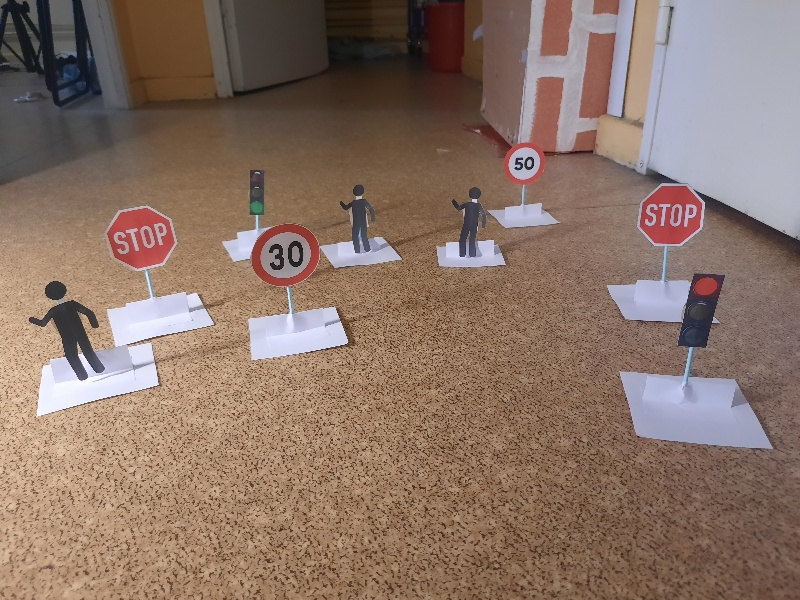Green: (249, 169, 262, 215)
Limit 30: (252, 225, 320, 282)
Limit 50: (506, 141, 542, 179)
Person: (30, 285, 107, 378), (453, 187, 484, 260), (343, 185, 372, 250)
Red: (677, 271, 727, 348)
Stop: (641, 183, 707, 247), (104, 212, 174, 267)
